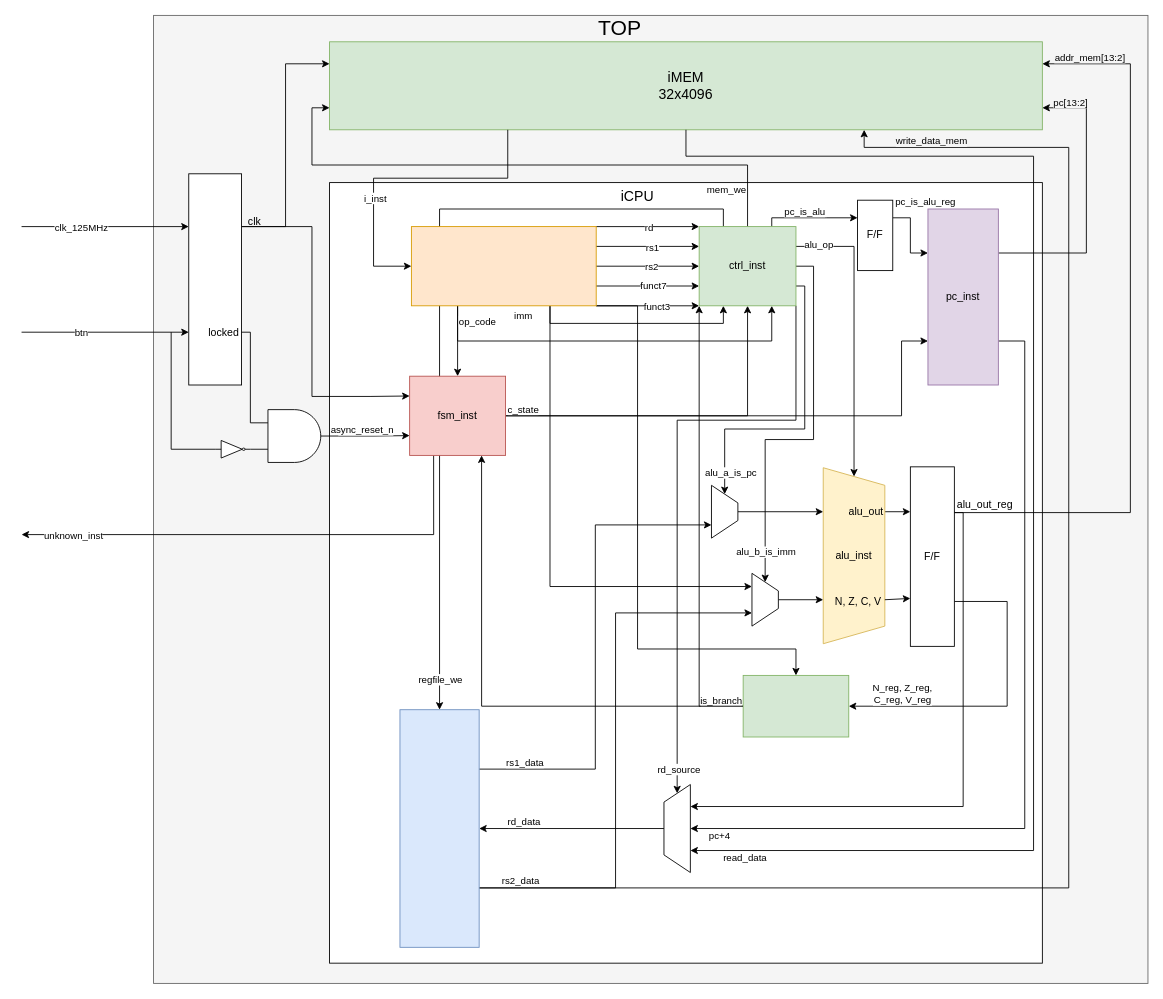
Some shapes in this 1163 by 999 pixel diagram are drawn without their labels. Here are the shapes that lost their labels. From the top down, the box of each, then its label:
(188, 173, 242, 385): iPLL
(411, 226, 596, 306): ir_decoder_inst
(742, 675, 849, 737): btake_inst
(399, 709, 479, 947): regfile_inst
